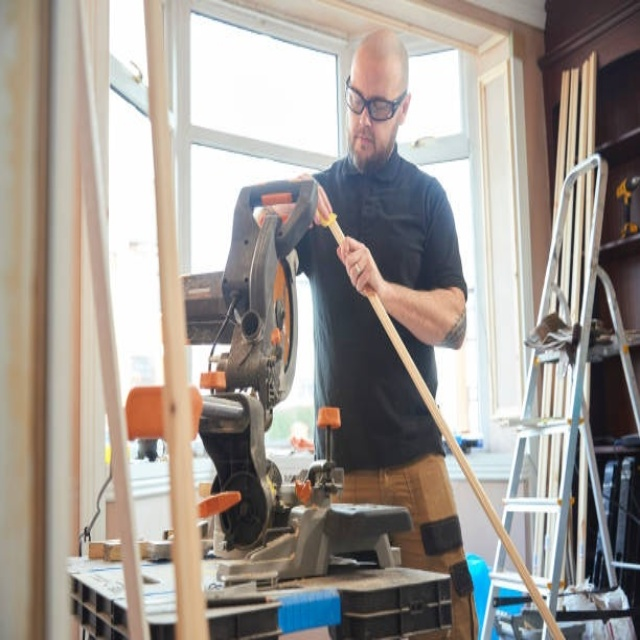Gafas: (346, 76, 407, 121)
Sin_guantes: (334, 231, 386, 304)
Sin_mascara: (347, 124, 382, 158)
